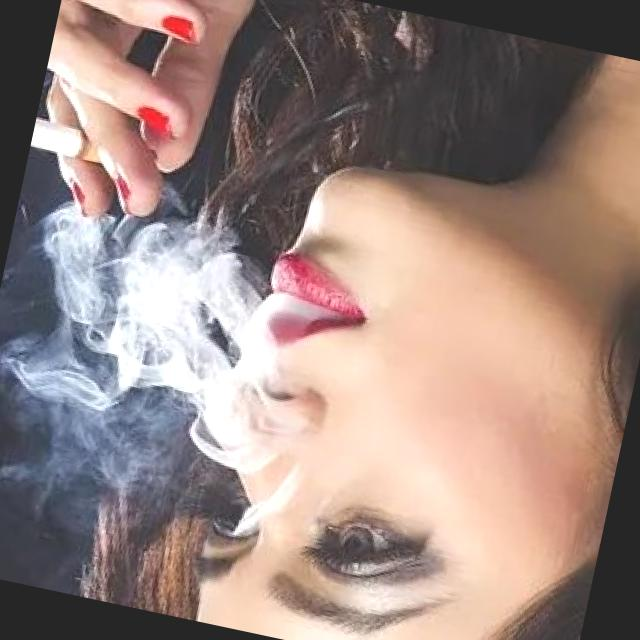smoke: (28, 107, 124, 174)
